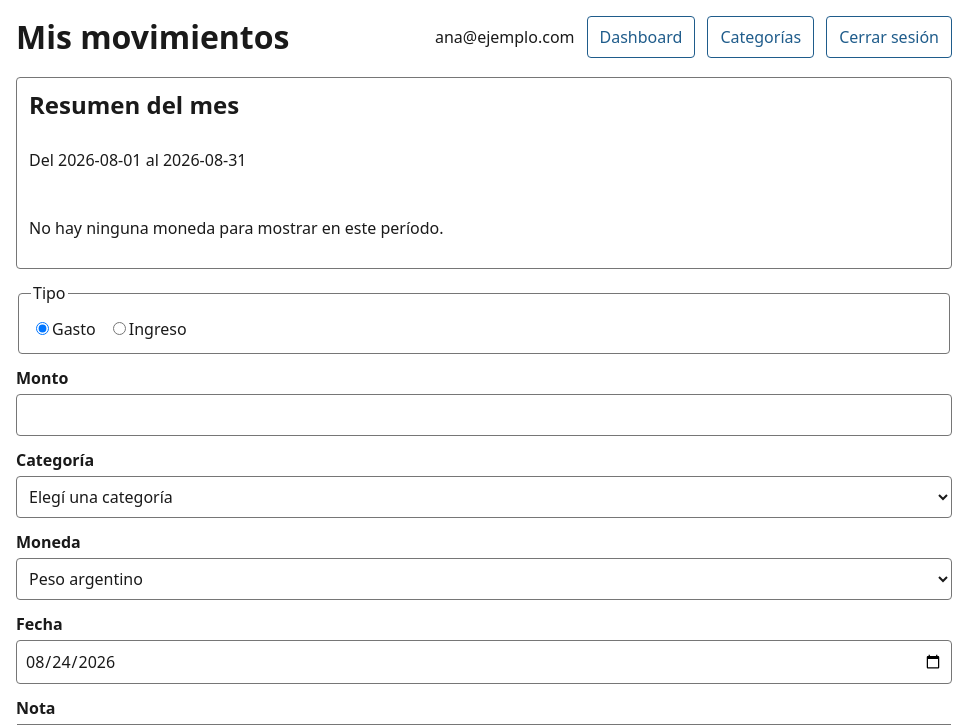
Test: App — cierre de sesión › cerrar sesión vuelve al acceso, sin el aviso de sesión vencida AC-06
What coordinates should you click on to do the following:
click the button "Cerrar sesión"
I would click on:
 (889, 37)
Its box is left=826, top=16, right=952, bottom=58.
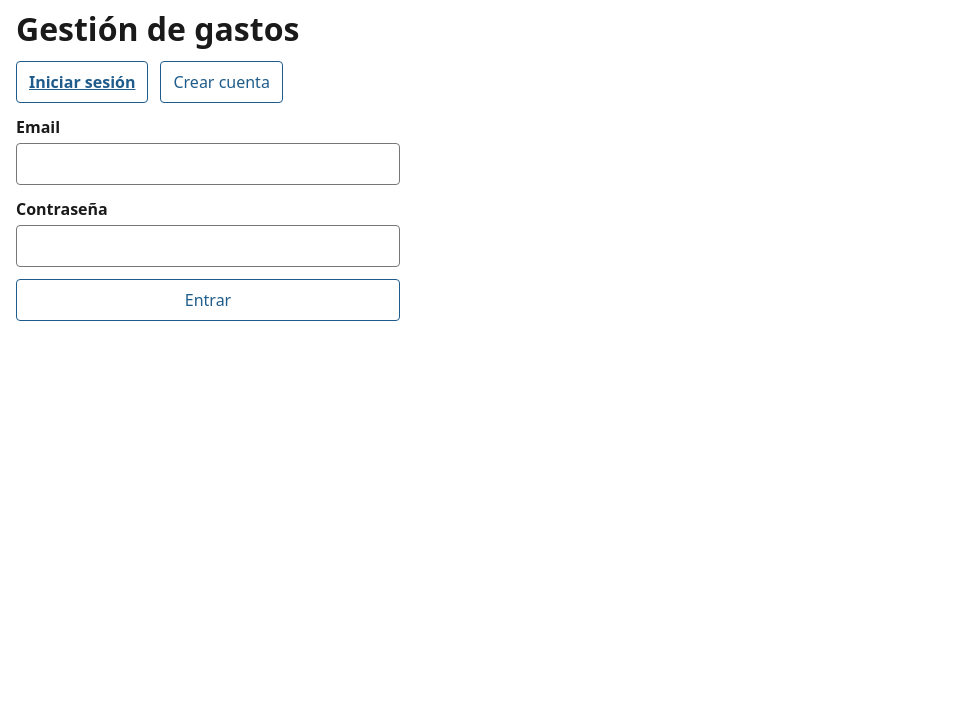
Now the button "Entrar" is shown, box left=16, top=279, right=400, bottom=321
